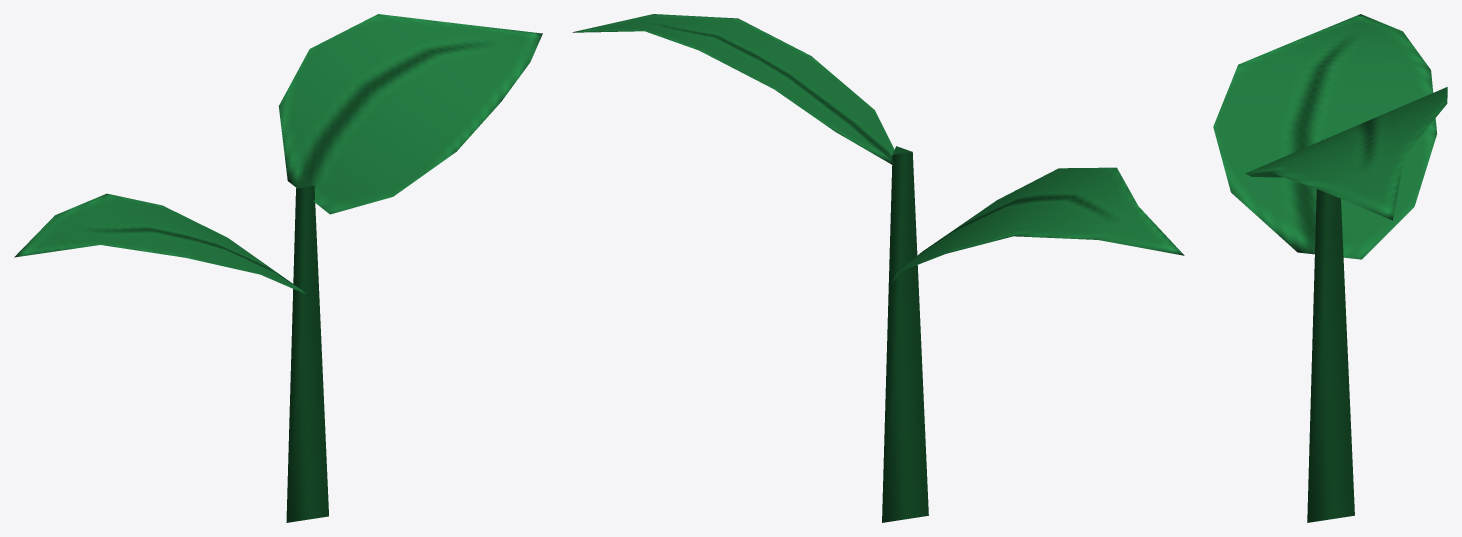
File: building_Herbal_sprout.FBX
The picture shows the model from 3 angles, left to right: view 1: azimuth 30°, elevation 25°; view 2: azimuth 150°, elevation 25°; view 3: azimuth 270°, elevation 25°; orthographic projection. The views are drawn at different scales.
Visible parts, largest first — view 1: building_Herbal_sprout; view 2: building_Herbal_sprout; view 3: building_Herbal_sprout.
Boxes of the visible parts, x1=… form: building_Herbal_sprout: x1=14, y1=14, x2=542, y2=522; building_Herbal_sprout: x1=572, y1=14, x2=1184, y2=522; building_Herbal_sprout: x1=1213, y1=14, x2=1447, y2=522.
Size of the model in its own units: 51.09 by 38.6 by 17.07.
